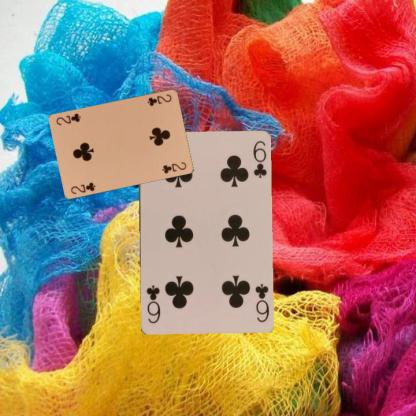2c: (68, 179, 97, 195), (145, 91, 173, 107)
6c: (252, 281, 270, 323)
